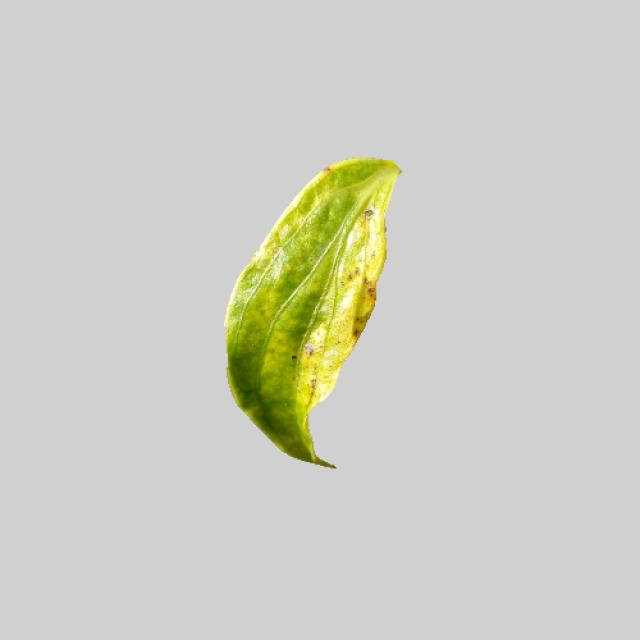yellow-mottle-virus: (220, 155, 403, 468)
